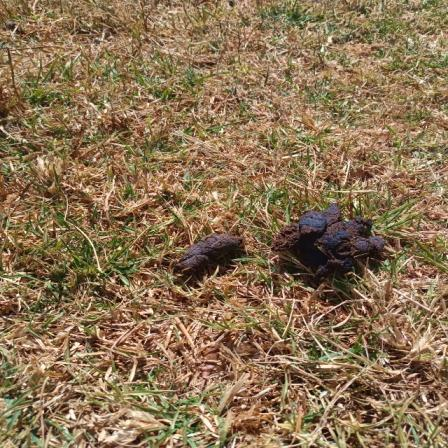dog-poop: (273, 201, 386, 280), (162, 225, 245, 282)
